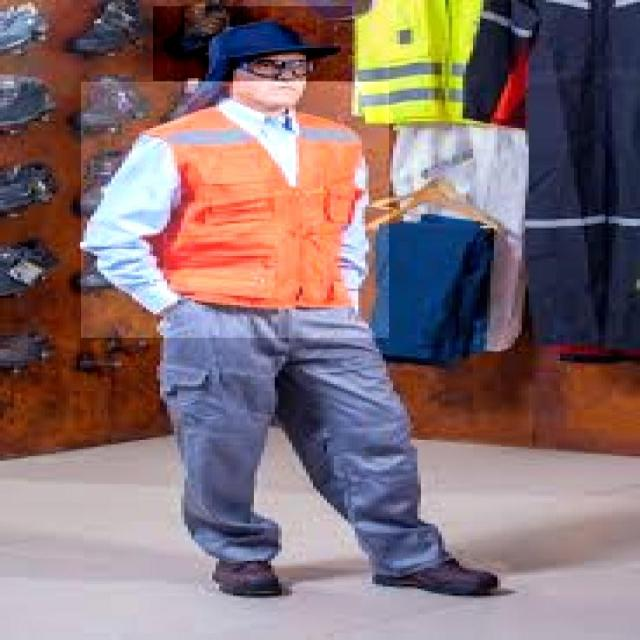Helmet: (153, 7, 352, 82)
Safety Vest: (81, 82, 389, 338)
